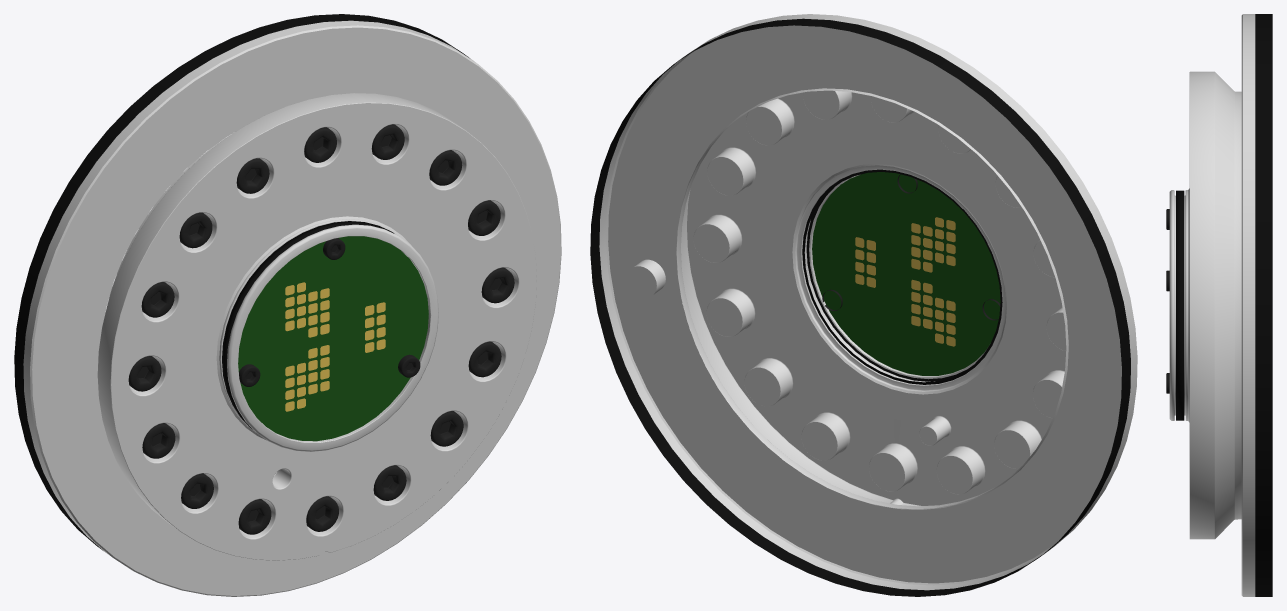
The model's file is D116-quebec-distal.glb.
The picture shows the model from 3 angles, left to right: view 1: azimuth 30°, elevation 25°; view 2: azimuth 150°, elevation 25°; view 3: azimuth 270°, elevation 25°; orthographic projection. The views are drawn at different scales.
Visible parts, largest first — view 1: D116-quebec-distal.001; view 2: D116-quebec-distal.001; view 3: D116-quebec-distal.001.
Boxes of the visible parts, x1,y1,x2,y2 form: D116-quebec-distal.001: [14, 14, 561, 596]; D116-quebec-distal.001: [590, 14, 1137, 596]; D116-quebec-distal.001: [1166, 14, 1272, 596].
Size of the model in its own units: 0.116 by 0.116 by 0.0212.
